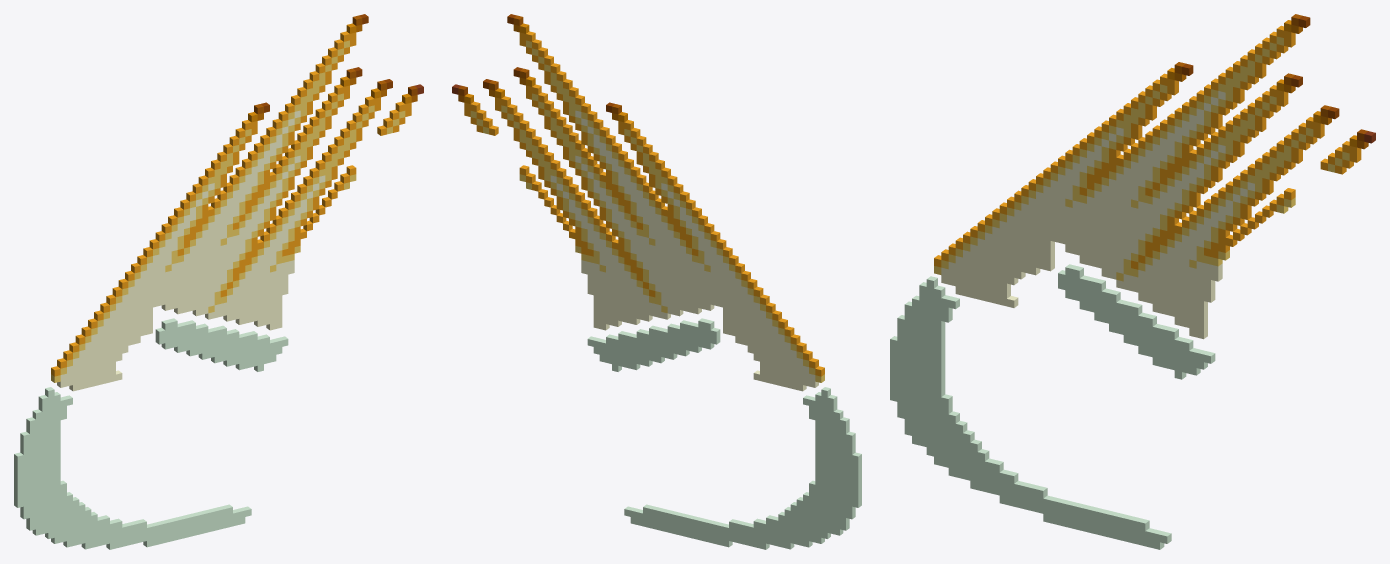
Rendered from Fight_105_2_05_fx.obj.
3 views of the same model, side by side, from view 1: azimuth 30°, elevation 25°; view 2: azimuth 150°, elevation 25°; view 3: azimuth 330°, elevation 25° (orthographic). The views are drawn at different scales.
Bounding box in the file's own units: 6.6 × 7.4 × 0.1.
Materials: 1 (1 with a texture image).
